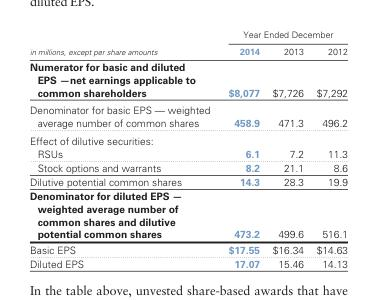table: (28, 28, 346, 269)
table column: (28, 28, 218, 269), (218, 28, 265, 269), (265, 28, 309, 269), (309, 28, 346, 269)
table column header: (28, 28, 346, 58)
table projected row header: (28, 131, 346, 146)
table row: (28, 188, 346, 241), (28, 58, 346, 100), (28, 100, 346, 131), (28, 42, 346, 58), (28, 131, 346, 146), (28, 241, 346, 256), (28, 28, 346, 42), (28, 146, 346, 160), (28, 160, 346, 174), (28, 174, 346, 188), (28, 256, 346, 269)
table spanning cell: (28, 28, 218, 58), (218, 28, 346, 42)
